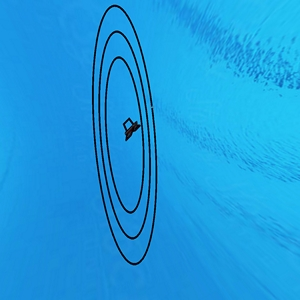submarine: (122, 119, 142, 140)
